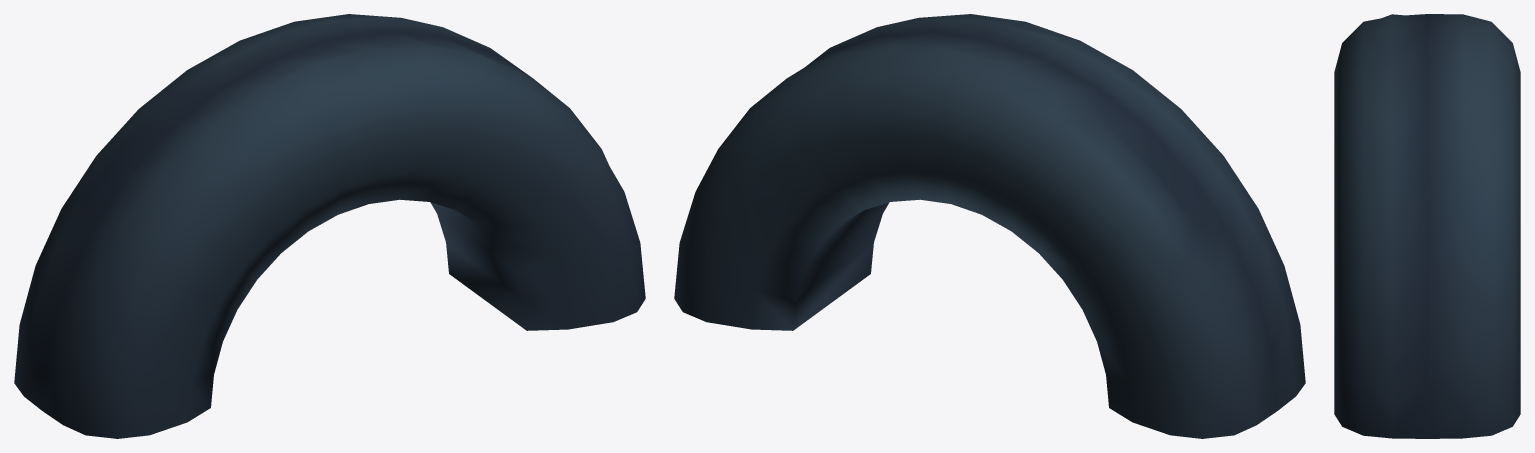
File: The tire is blue.fbx
3 views of the same model, side by side, from view 1: azimuth 30°, elevation 25°; view 2: azimuth 150°, elevation 25°; view 3: azimuth 270°, elevation 25° (orthographic). The views are drawn at different scales.
Visible parts, largest first — view 1: The tire is blue; view 2: The tire is blue; view 3: The tire is blue.
Part boxes in pixels (x1,y1,x2,y2): The tire is blue: (14,14,645,438); The tire is blue: (674,14,1305,438); The tire is blue: (1334,14,1520,438).
Bounding box in the file's own units: 254 × 127 × 78.99.
